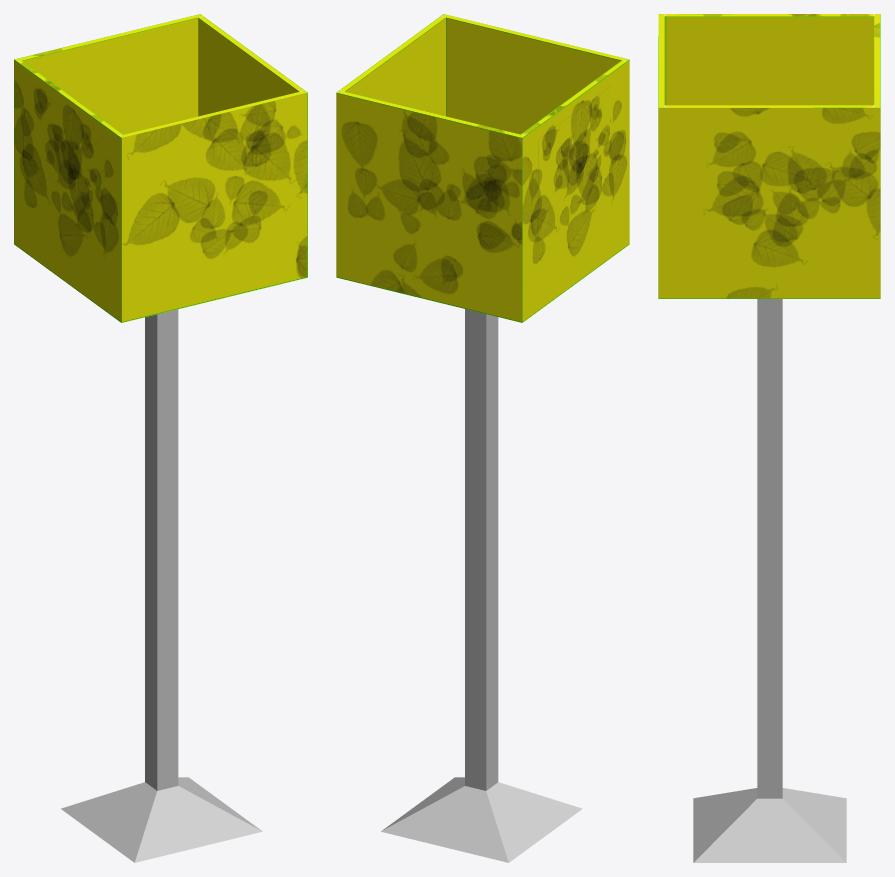
Rendered from Lamp_style2.FBX.
3 renders of one model, left to right at view 1: azimuth 30°, elevation 25°; view 2: azimuth 150°, elevation 25°; view 3: azimuth 270°, elevation 25°, orthographic. The views are drawn at different scales.
Parts seen in each view (by area): view 1: Object001, Box001; view 2: Object001, Box001; view 3: Object001, Box001.
Part boxes in pixels (<box>): Object001: <box>14,14,307,322</box>; Box001: <box>61,309,262,862</box>; Object001: <box>336,14,629,322</box>; Box001: <box>381,309,582,862</box>; Object001: <box>658,14,880,298</box>; Box001: <box>693,299,846,862</box>.
Bounding box in the file's own units: 35.25 × 135 × 35.24.
